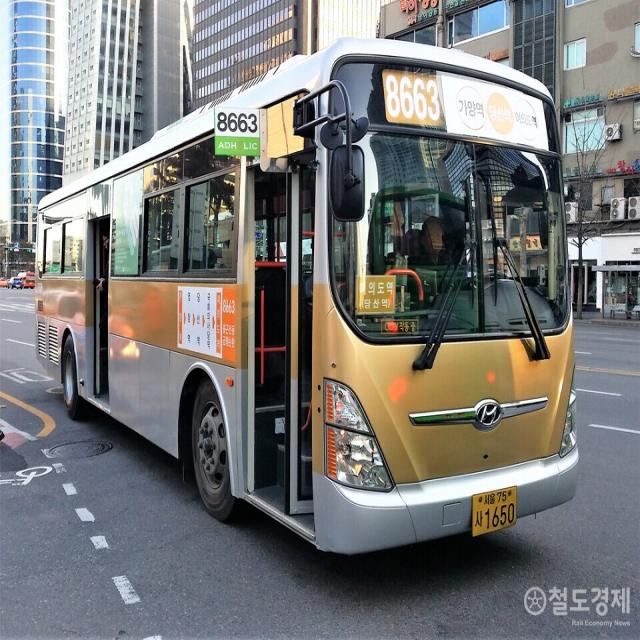bus-number: (384, 72, 442, 123)
